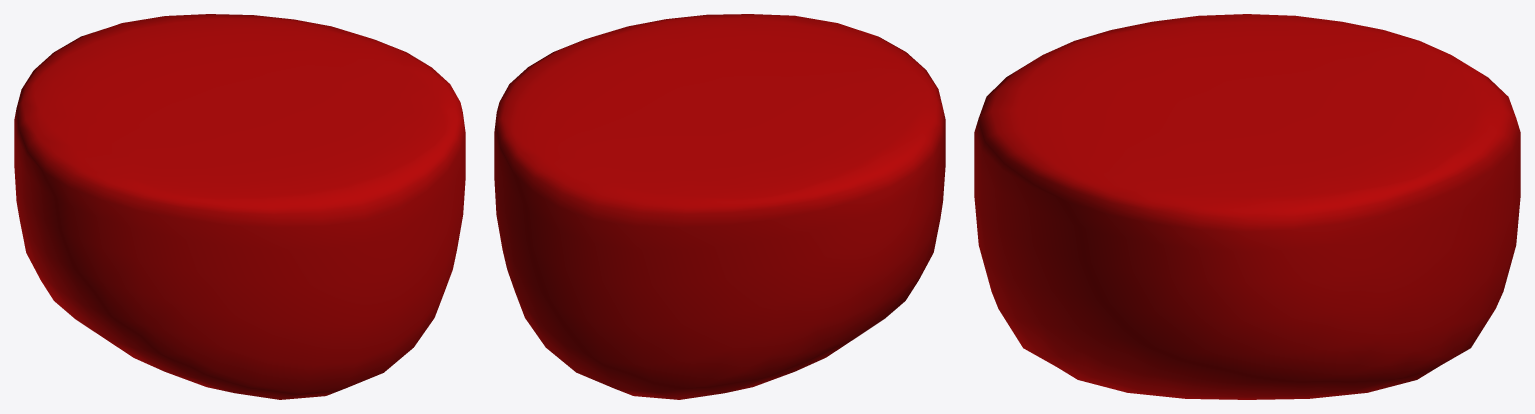
3 renders of one model, left to right at view 1: azimuth 30°, elevation 25°; view 2: azimuth 150°, elevation 25°; view 3: azimuth 270°, elevation 25°, orthographic. The views are drawn at different scales.
Size of the model in its own units: 0.0574 by 0.0338 by 0.0639.
